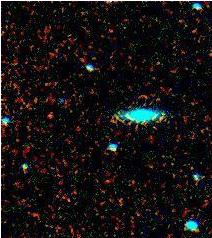star: (35, 101, 65, 131)
